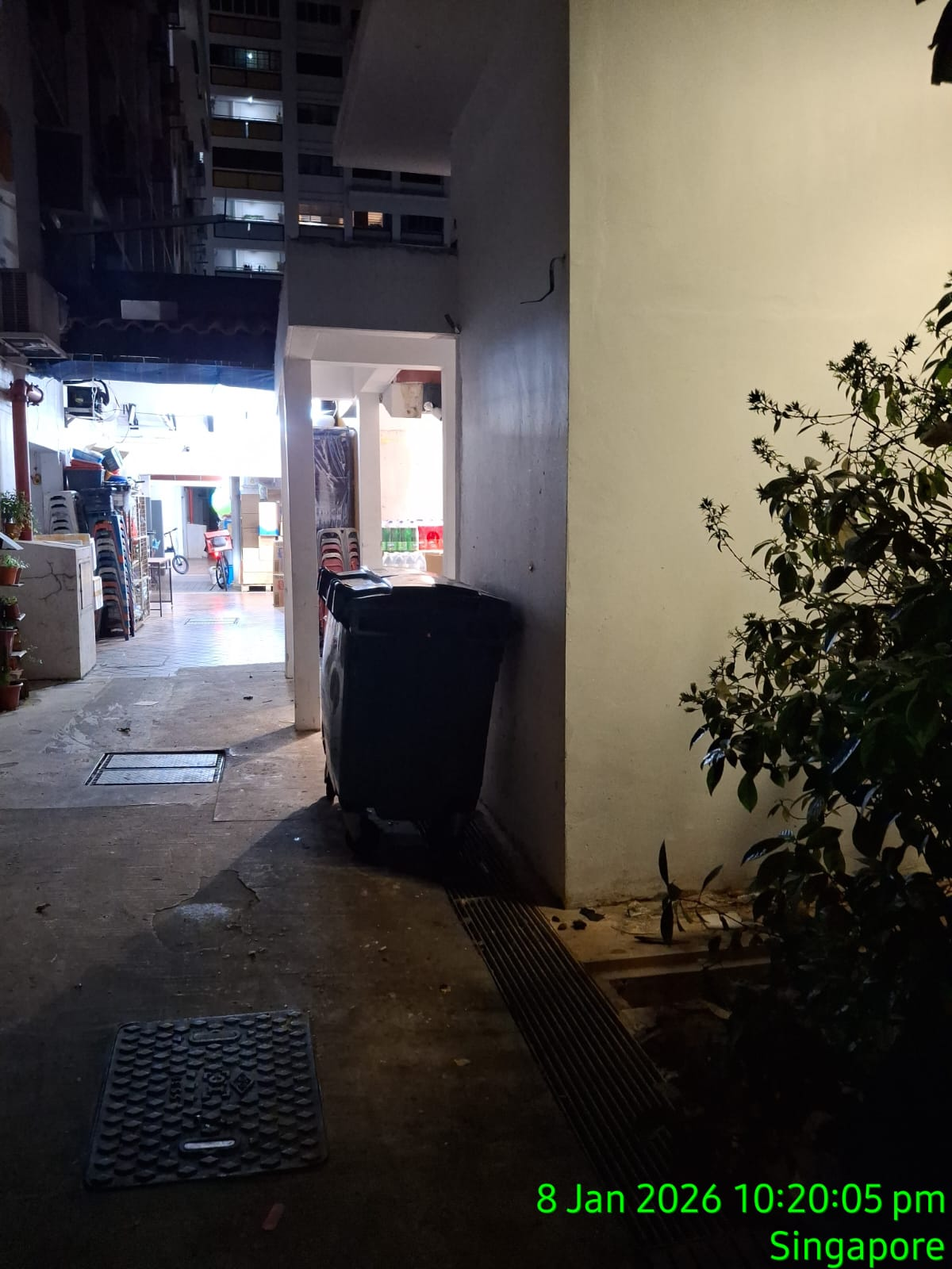bin_empty: (318, 568, 511, 842)
